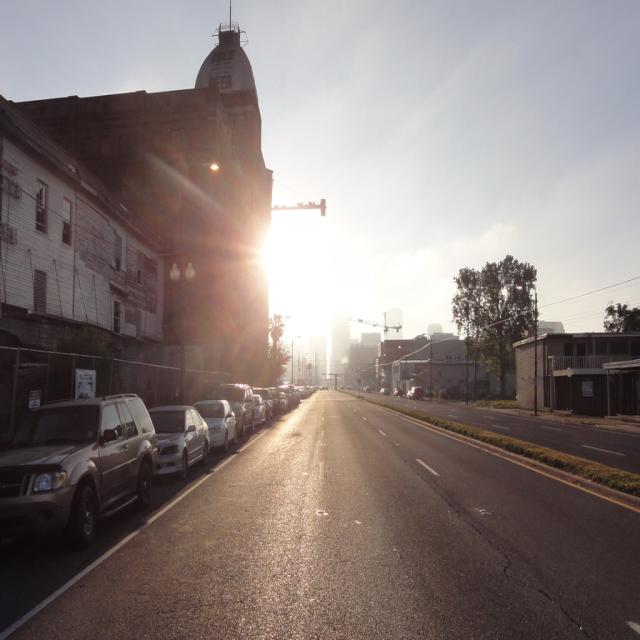car: (406, 384, 421, 399), (393, 386, 403, 396), (379, 386, 390, 394), (318, 385, 327, 388)
